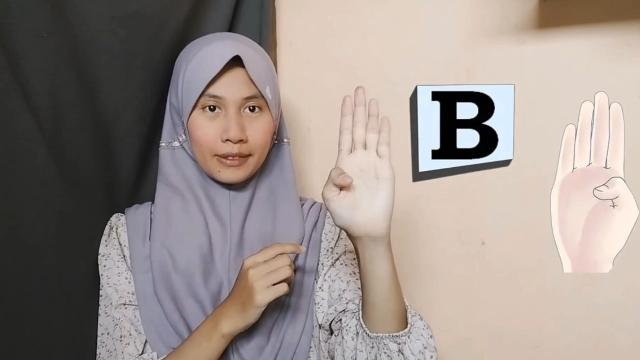B: (322, 86, 396, 238)
